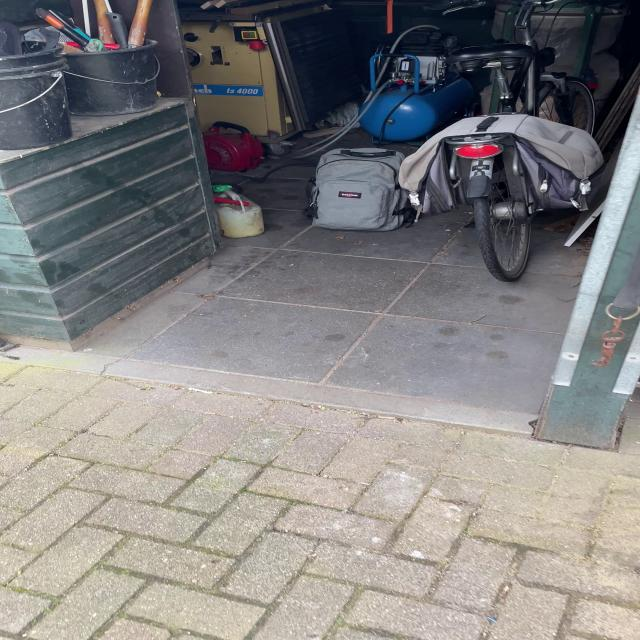backpack: (300, 143, 422, 235)
